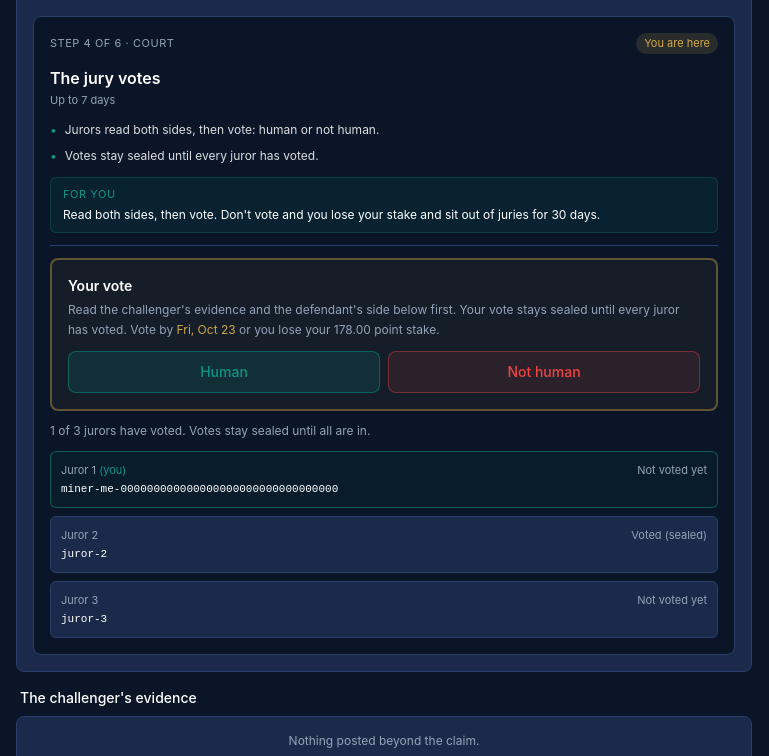
Test: CaseDetail (miner) › shows the error when a vote is rejected
(page scrolled)
What coordinates should you click on to do the following:
click the button "Human"
I would click on:
 (224, 372)
Its box is [68,351,380,393].
(page scrolled)
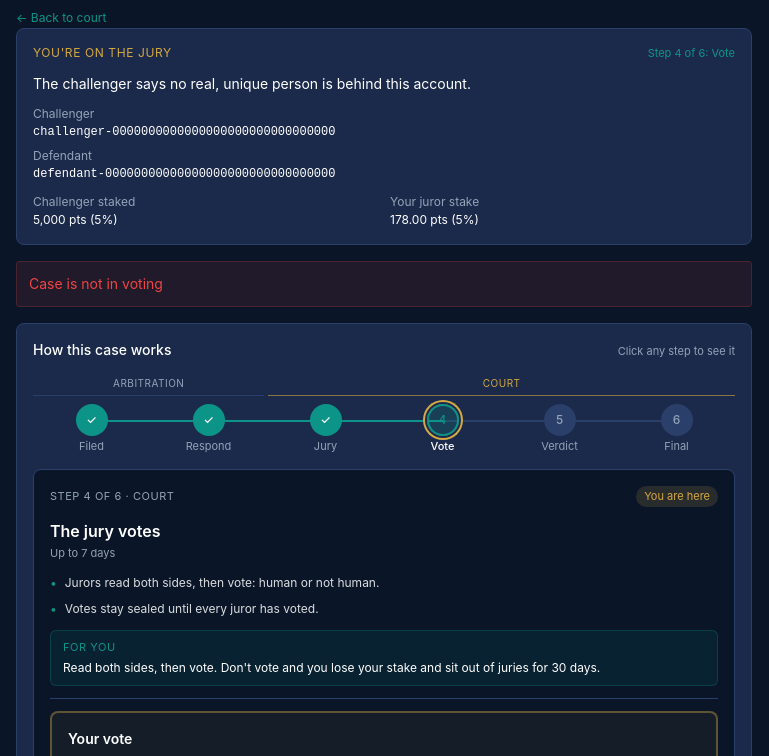
Expected: the text "Case is not in voting" is shown, [16,260,752,306]
